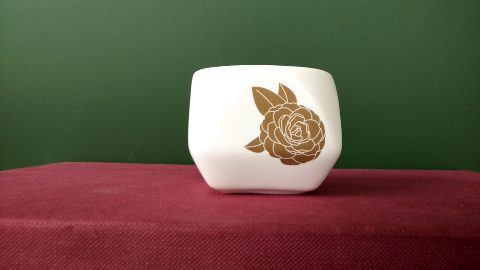flower: (240, 76, 327, 167)
